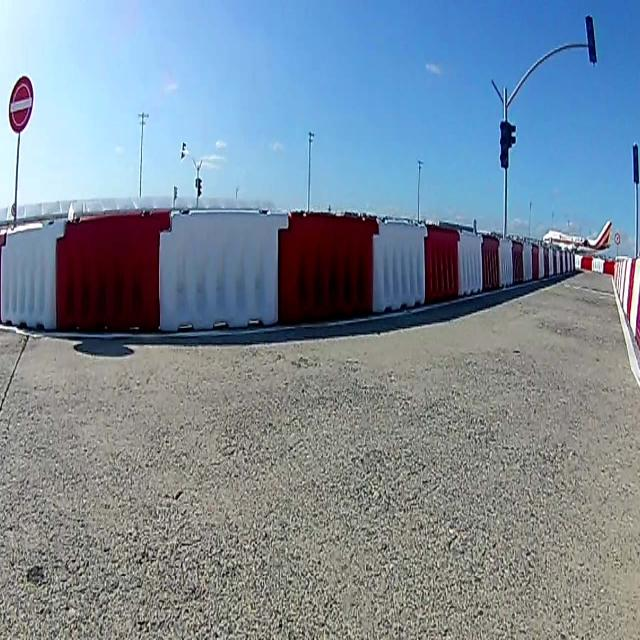girisyok: (8, 76, 34, 132)
